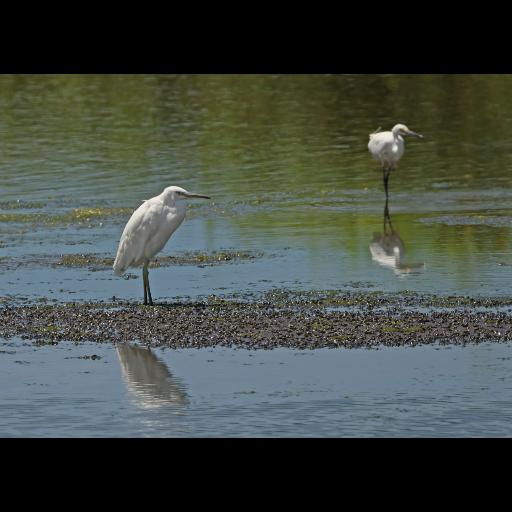chinese_egret: (112, 186, 214, 306), (368, 124, 424, 198)
